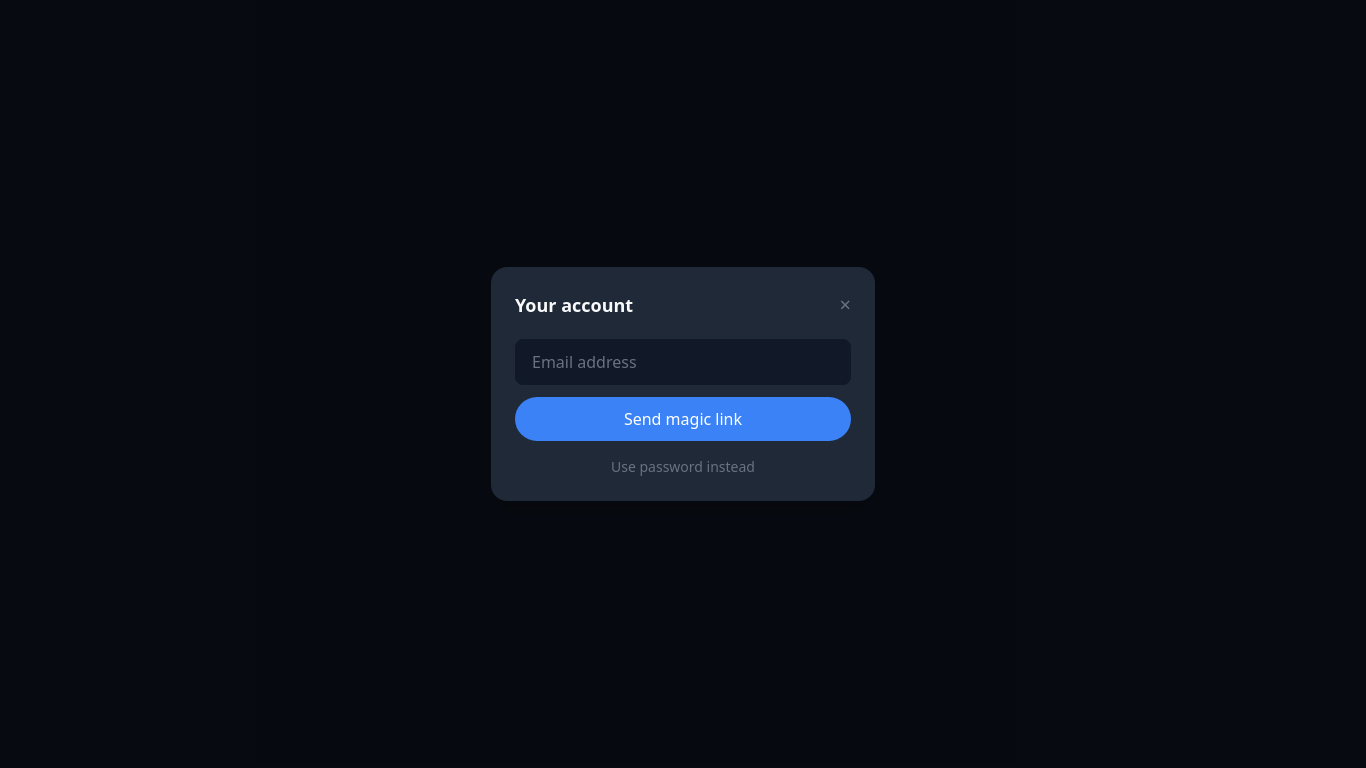
Test case: AuthModal › shows "check your inbox" after sending magic link
The width and height of the screenshot is (1366, 768).
In the field with placeholder "Email address": (683, 362) x1=515 y1=339 x2=851 y2=385, type "test@example.com"
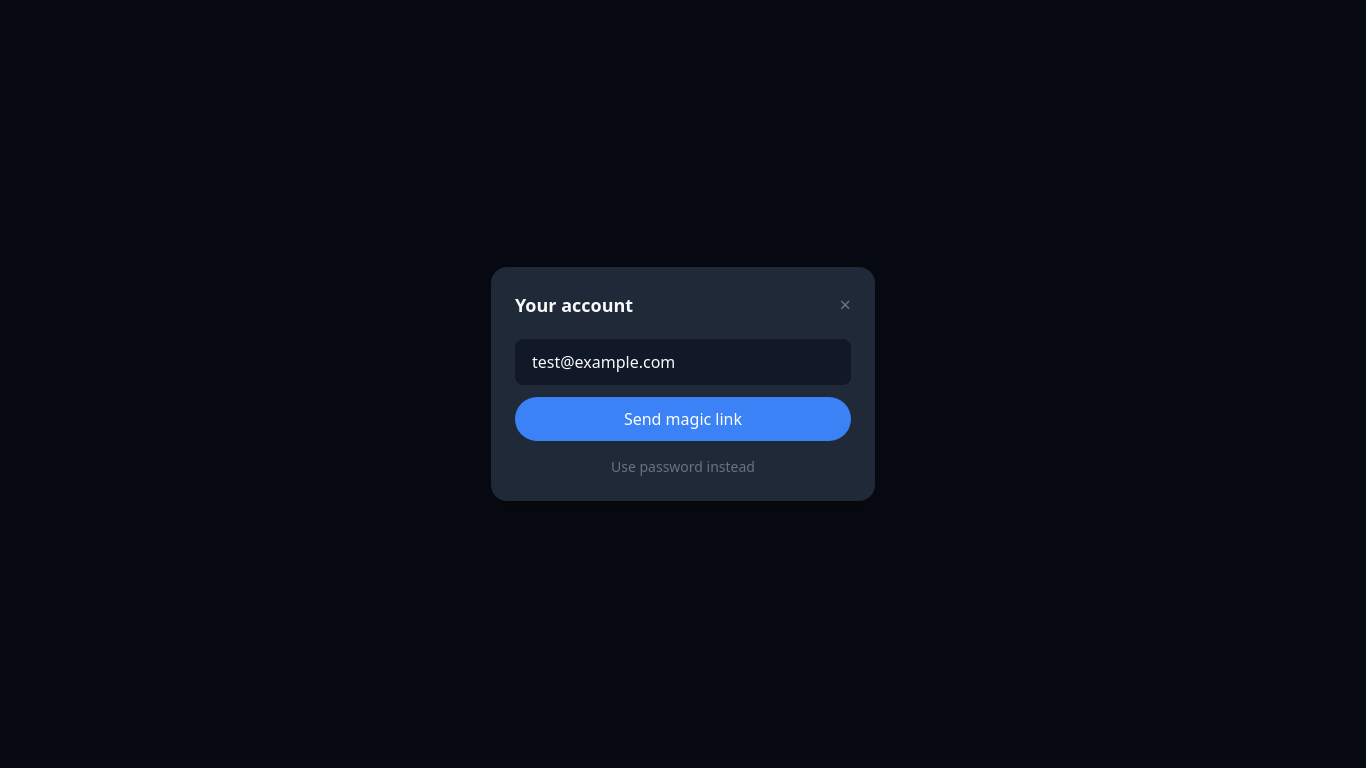
Click the button "Send magic link": (683, 419) x1=515 y1=397 x2=851 y2=441
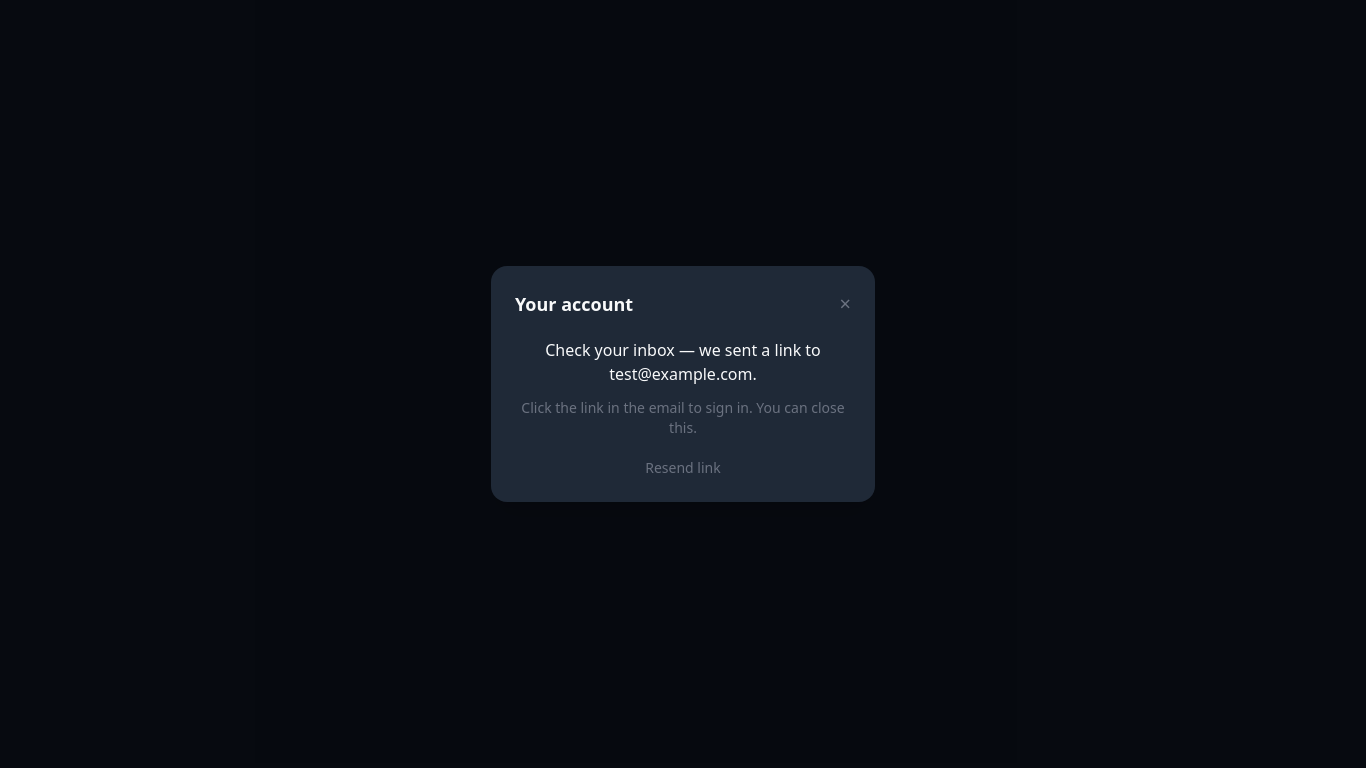
Expected: the text "Check your inbox — we sent a link to test@example.com." is shown, x1=545 y1=339 x2=821 y2=385
